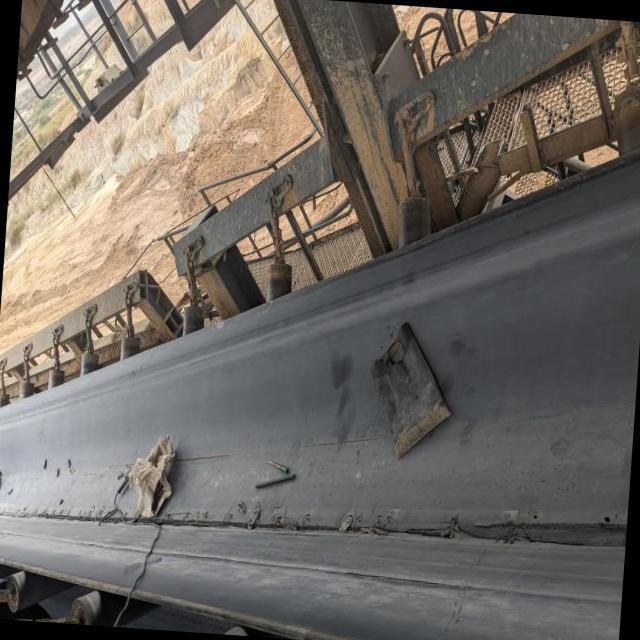Tear: (0, 492, 634, 557)
